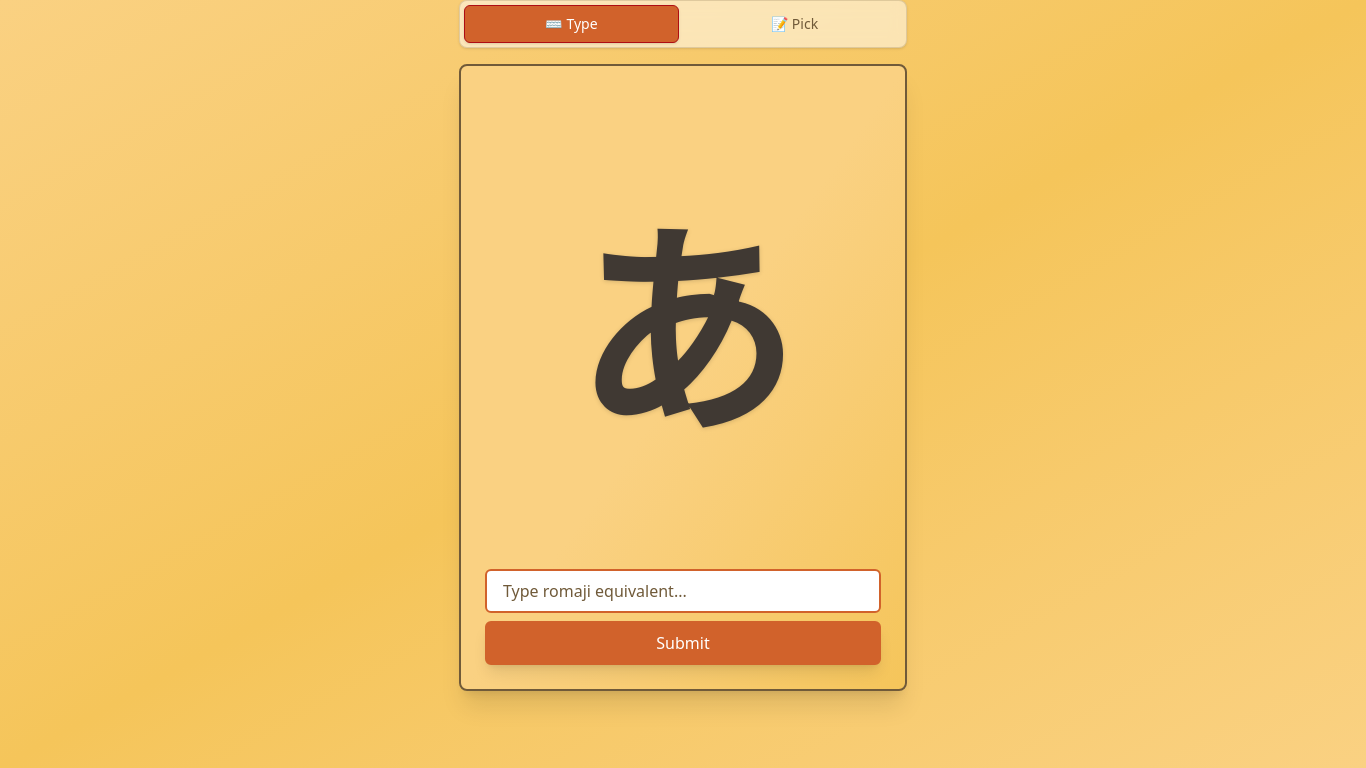
Flashcard Component › validates empty input
Click the button "Submit" at (683, 643), box [485,621,881,665]
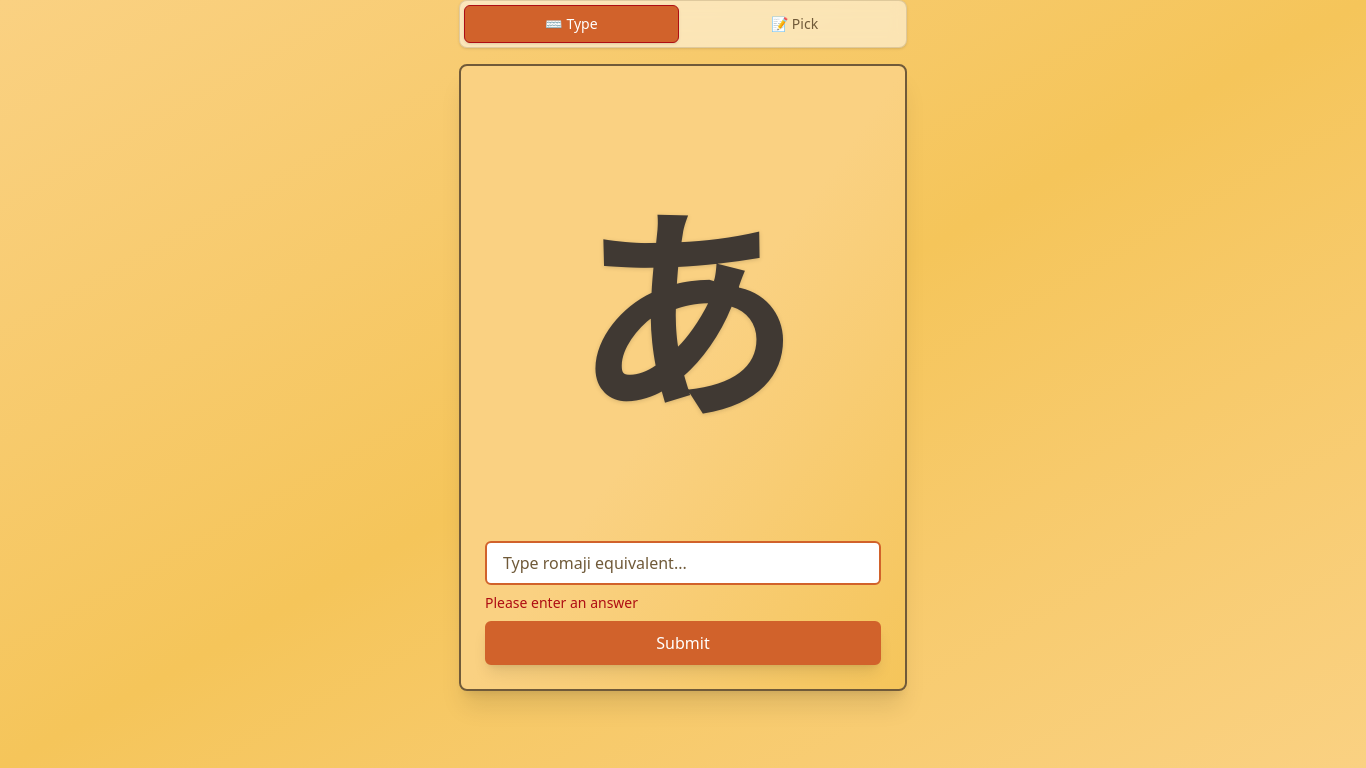
Result: the text "Please enter an answer" is shown at [485,593,638,612]
